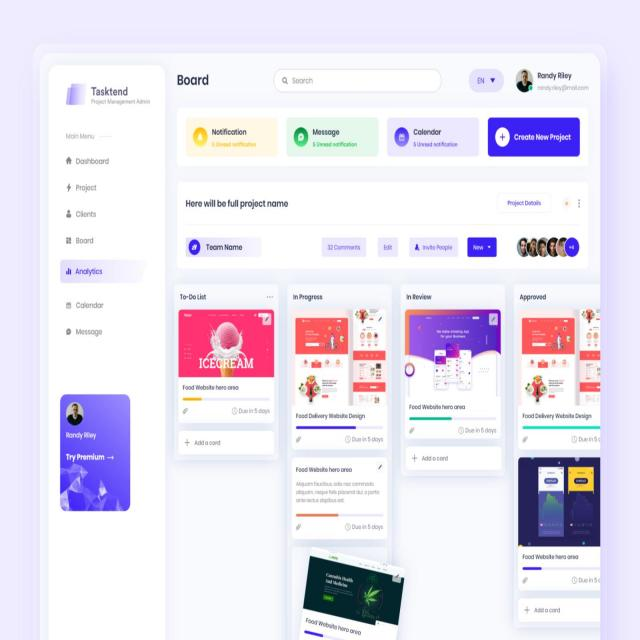button: (488, 118, 580, 156), (178, 430, 274, 456), (406, 448, 502, 470), (186, 236, 262, 256), (322, 237, 367, 257)
input: (273, 68, 441, 93)
select: (469, 68, 504, 92), (468, 237, 498, 257)
